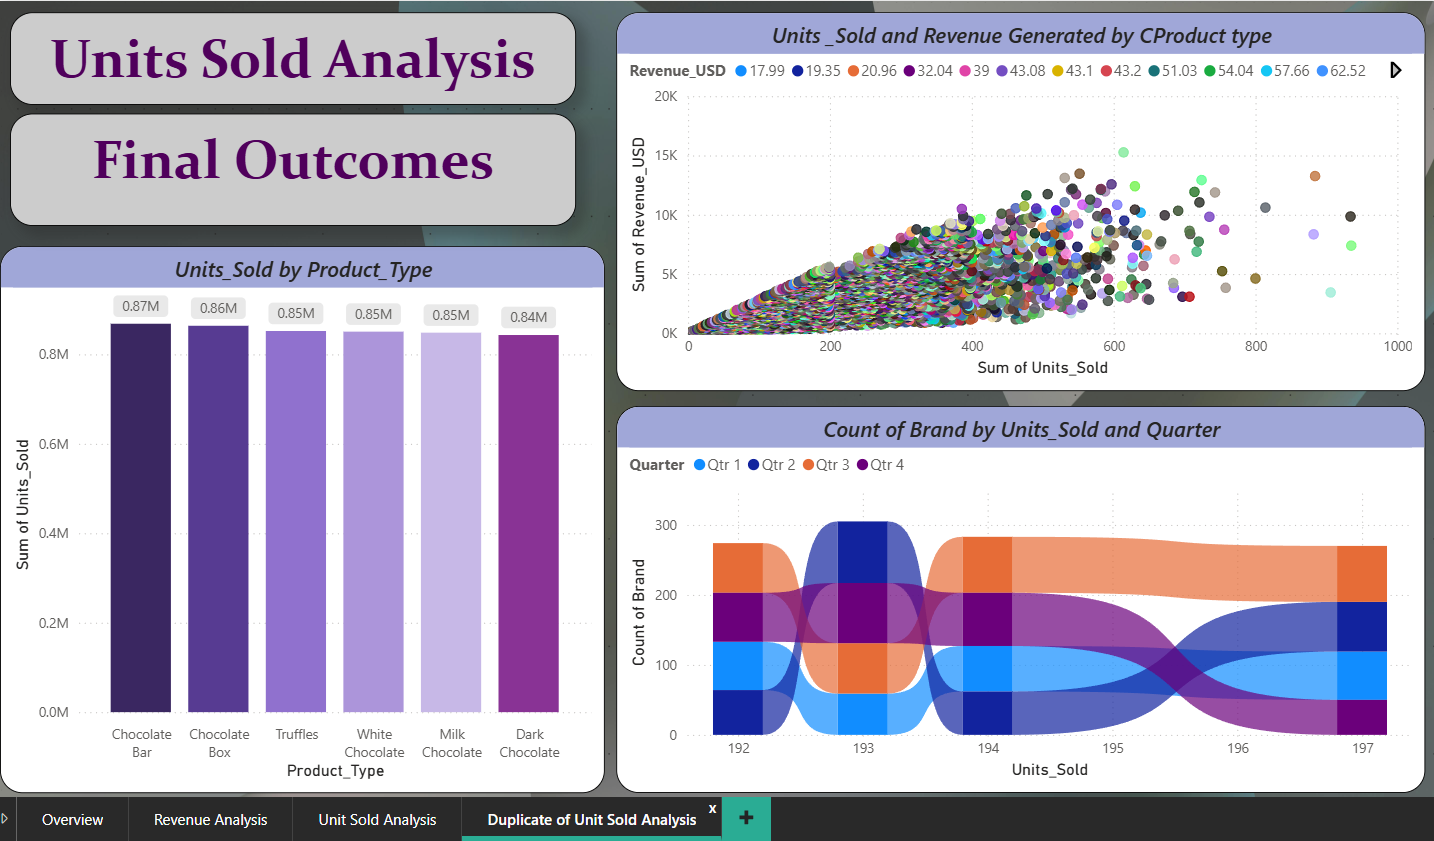

This screenshot's page, from the dashboard's own definition file:
{"tool":"powerbi","page":{"name":"Duplicate of Unit Sold Analysis","canvas":[1280,720],"ordinal":3},"visuals":[{"type":"textbox","box":[8.6,9.8,503.4,82.5],"z":0},{"type":"scatterChart","title":"Units _Sold and Revenue Generated by CProduct type","fields":{"X":["Sum(chocolate_sales_50000.Units_Sold)"],"Y":["Sum(chocolate_sales_50000.Revenue_USD)"],"Series":["chocolate_sales_50000.Revenue_USD"]},"box":[548.2,9.7,719.3,336.7],"z":1000},{"type":"ribbonChart","fields":{"Y":["CountNonNull(chocolate_sales_50000.Brand)"],"Category":["chocolate_sales_50000.Units_Sold"],"Series":["chocolate_sales_50000.Date.Variation.Date Hierarchy.Quarter"]},"box":[548.2,360.3,719.3,343.7],"z":2000},{"type":"clusteredColumnChart","title":"Units_Sold by Product_Type","fields":{"Y":["Sum(chocolate_sales_50000.Units_Sold)"],"Category":["chocolate_sales_50000.Product_Type"]},"box":[0,217.8,537.8,486.2],"z":3000},{"type":"textbox","box":[8.6,99.7,503.4,99.7],"z":3001}]}

Visuals, with their boxes on the page's 1280x720 design canvas (x1, y1, x2, y2). These are canvas units, not pixel positions in the 1434x841 screenshot, which may show the page scaled, cropped or inside an application window:
textbox: left=9, top=10, right=512, bottom=92
"Units _Sold and Revenue Generated by CProduct type" scatterChart: left=548, top=10, right=1268, bottom=346
ribbonChart - CountNonNull(chocolate_sales_50000.Brand) x chocolate_sales_50000.Units_Sold: left=548, top=360, right=1268, bottom=704
"Units_Sold by Product_Type" clusteredColumnChart: left=0, top=218, right=538, bottom=704
textbox: left=9, top=100, right=512, bottom=199
